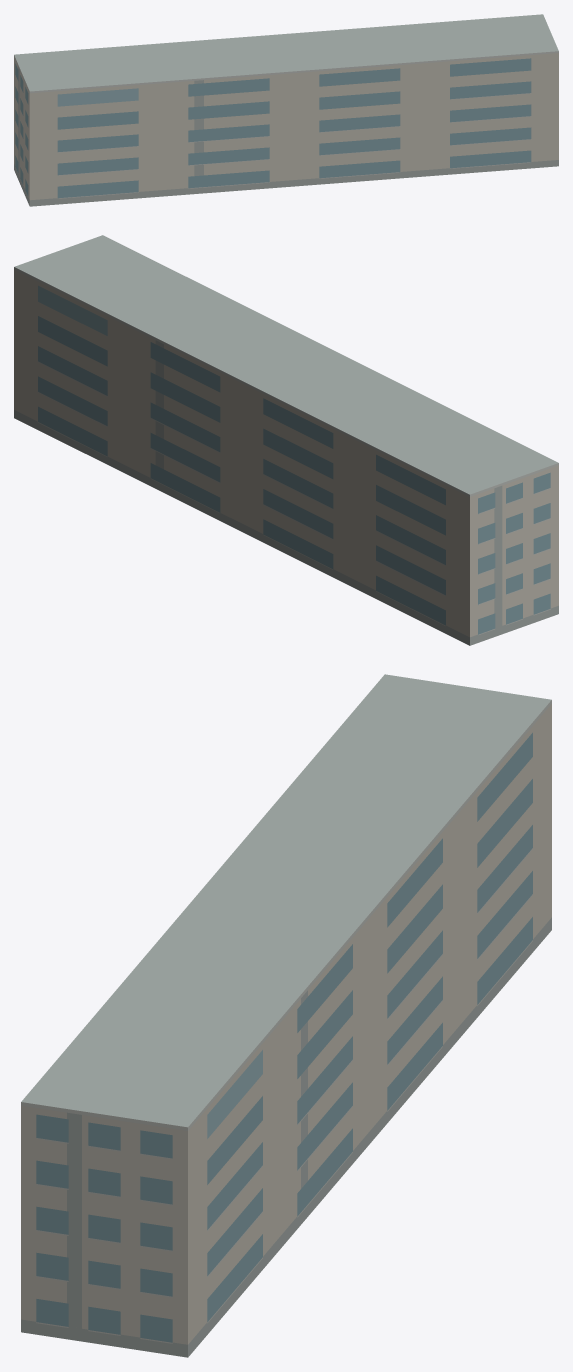
The model's file is residential-d5a0ccf4-9637-4796-a980-005146bb0781.glb.
The picture shows the model from 3 angles, top to bottom: view 1: azimuth 30°, elevation 25°; view 2: azimuth 150°, elevation 25°; view 3: azimuth 270°, elevation 25°; orthographic projection. The views are drawn at different scales.
Parts seen in each view (by area): view 1: residential-d5a0ccf4-9637-4796-a980-005146bb0781.tmp; view 2: residential-d5a0ccf4-9637-4796-a980-005146bb0781.tmp; view 3: residential-d5a0ccf4-9637-4796-a980-005146bb0781.tmp.
Boxes of the visible parts, x1,y1,x2,y2 form: residential-d5a0ccf4-9637-4796-a980-005146bb0781.tmp: (14,14,558,206); residential-d5a0ccf4-9637-4796-a980-005146bb0781.tmp: (14,235,558,645); residential-d5a0ccf4-9637-4796-a980-005146bb0781.tmp: (21,674,551,1357).
Bounding box in the file's own units: 64.35 × 15.25 × 31.87.
